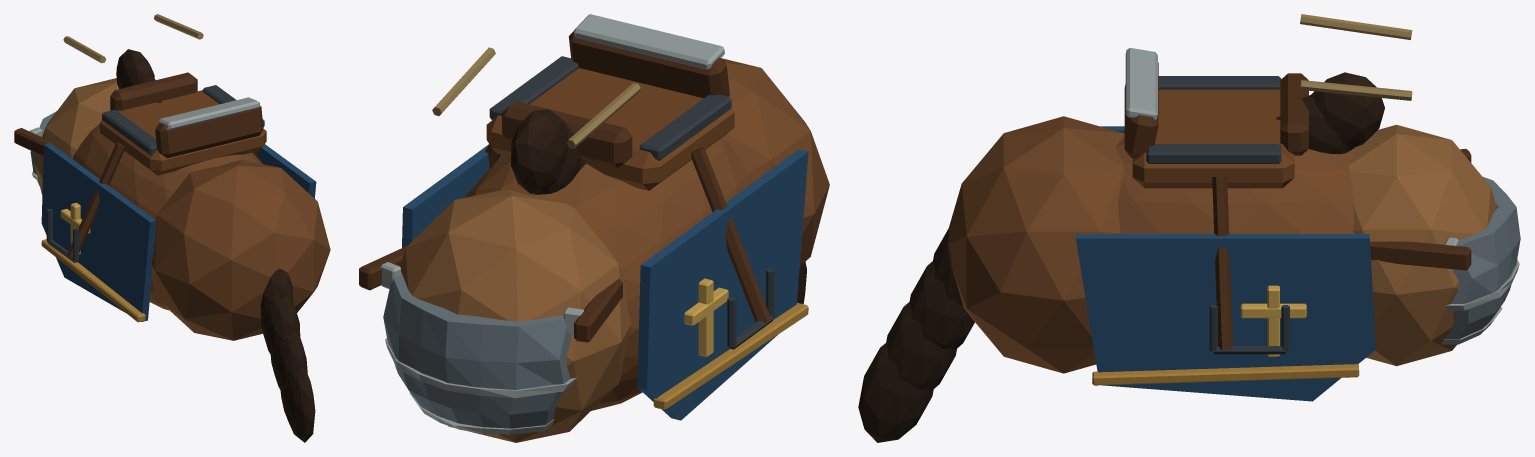
Rendered from Body.glb.
3 views of the same model, side by side, from view 1: azimuth 30°, elevation 25°; view 2: azimuth 150°, elevation 25°; view 3: azimuth 270°, elevation 25° (orthographic). The views are drawn at different scales.
Visible parts, largest first — view 1: Sculpture; view 2: Sculpture; view 3: Sculpture.
Part boxes in pixels (x1,y1,x2,y2): Sculpture: (14,14,330,442); Sculpture: (359,14,829,442); Sculpture: (858,14,1520,442).
Size of the model in its own units: 1.18 by 1.45 by 2.21.
